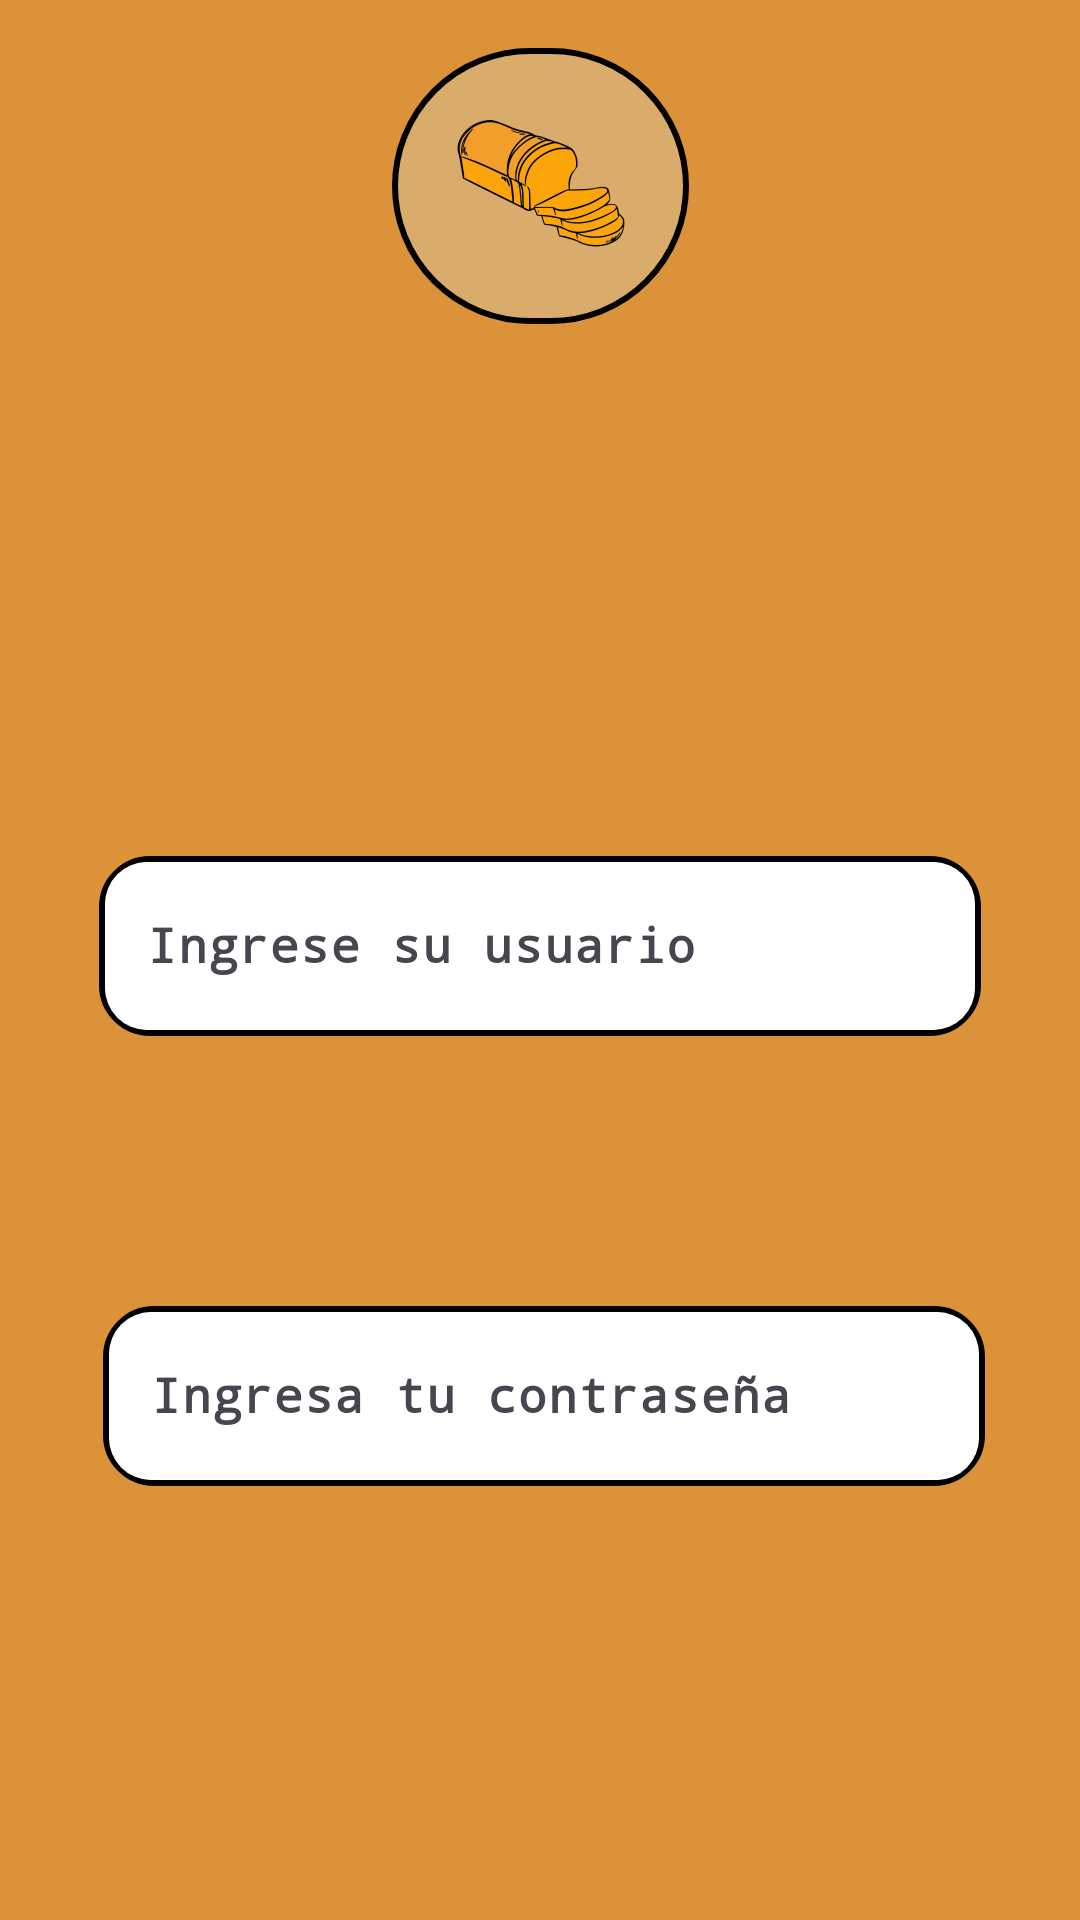

Named icons in this screenshot (1080×1920) and their bounding boxes, BBox(x1, y1, x2, y2):
Recetario para la app: BBox(392, 48, 689, 324)
